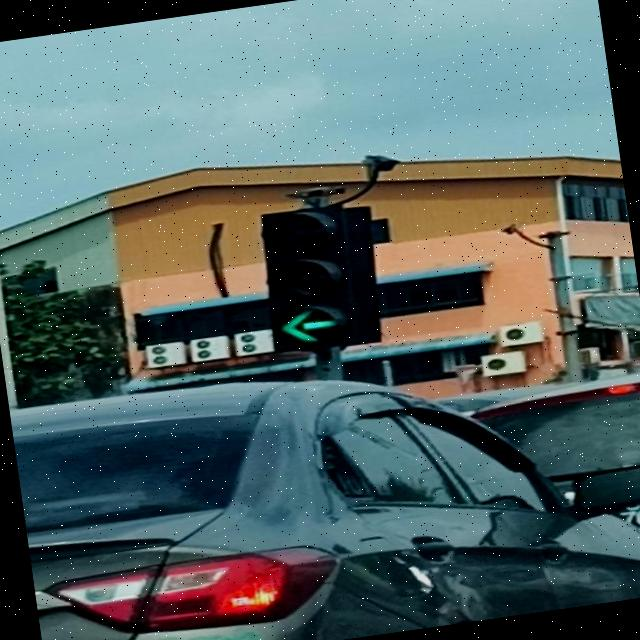green_light: (254, 204, 362, 352)
